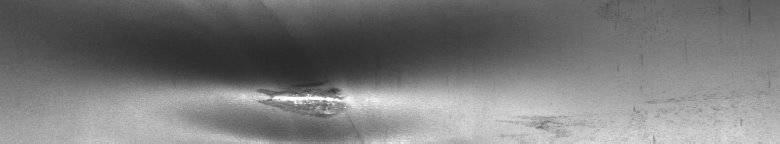ke: (220, 80, 351, 118)
